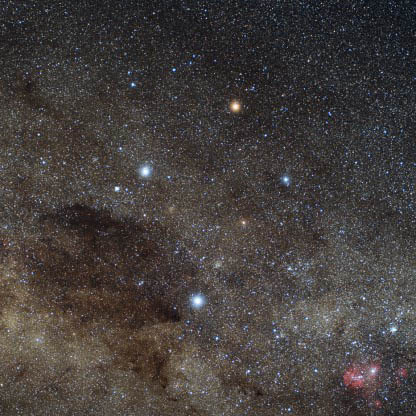Southern Cross: (222, 87, 264, 126), (135, 156, 163, 190), (186, 283, 213, 316), (276, 167, 297, 196)
